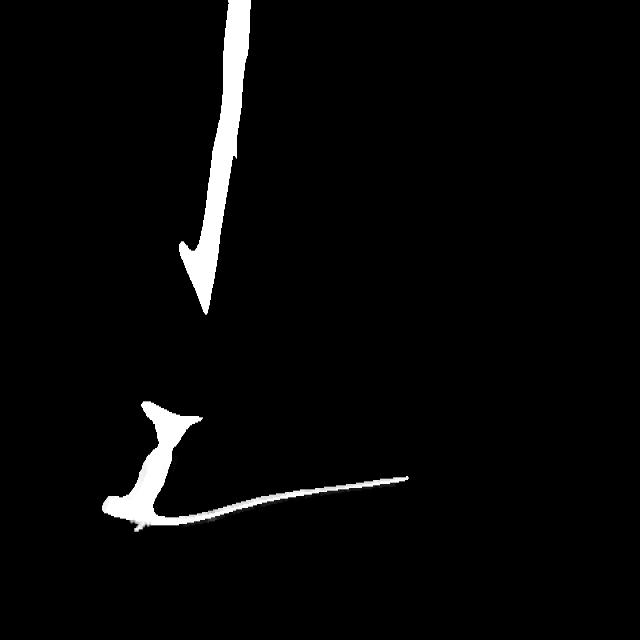sup_pli: (132, 518, 150, 542)
